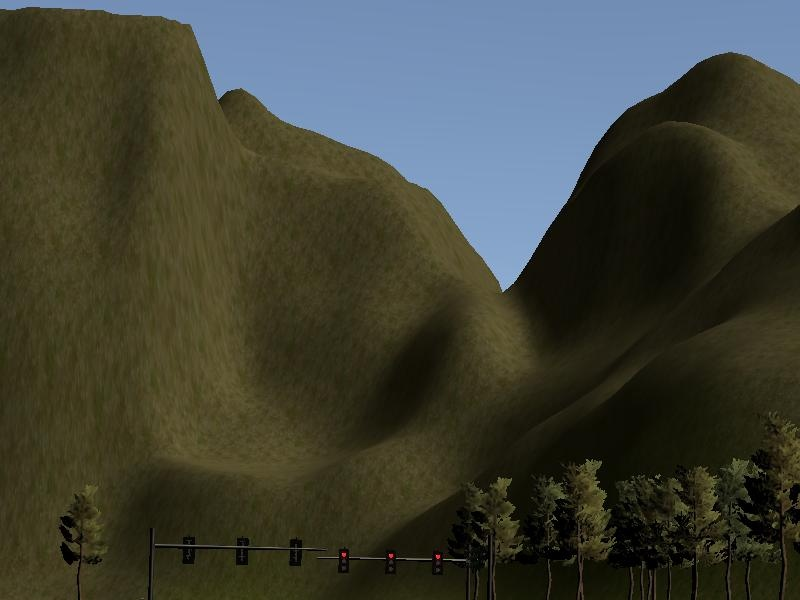red: (339, 548, 349, 574), (386, 549, 396, 575), (433, 550, 443, 576)
